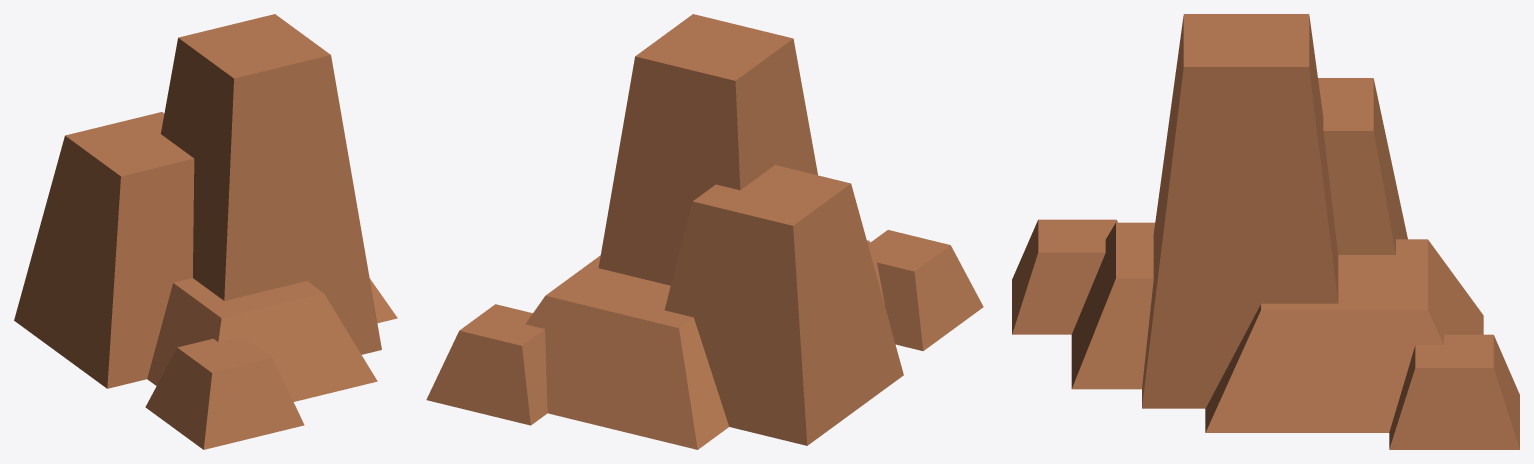
The model's file is rockstall.glb.
3 renders of one model, left to right at view 1: azimuth 30°, elevation 25°; view 2: azimuth 150°, elevation 25°; view 3: azimuth 270°, elevation 25°, orthographic. The views are drawn at different scales.
Parts seen in each view (by area): view 1: rocksTall; view 2: rocksTall; view 3: rocksTall.
Part boxes in pixels (x1,y1,x2,y2): rocksTall: [14, 14, 397, 449]; rocksTall: [426, 14, 983, 449]; rocksTall: [1012, 14, 1519, 449].
Size of the model in its own units: 6.72 by 5.78 by 8.21.
